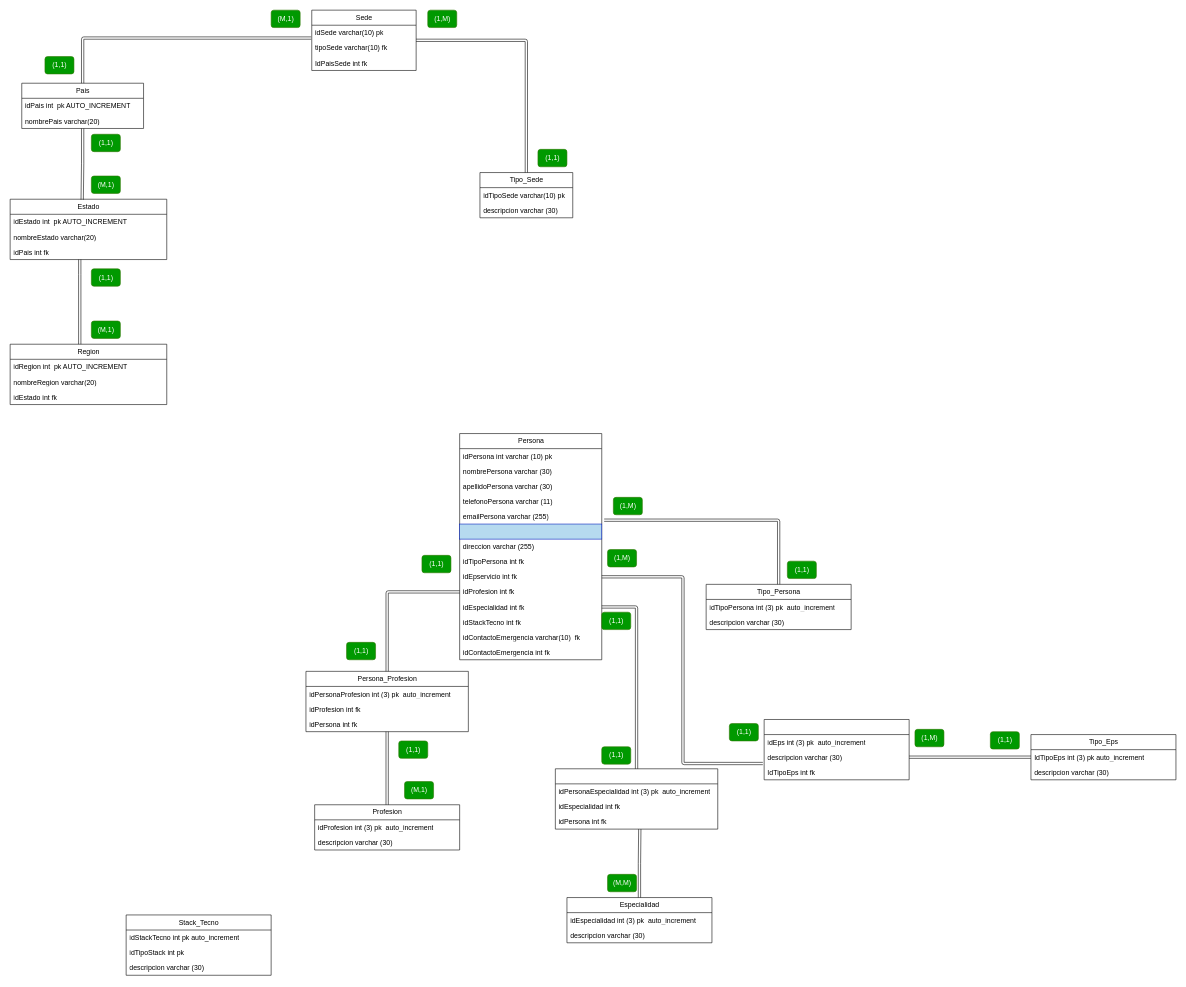
The diagram is 1186 pixels wide and 987 high, and some of its shapes have lost their labels. The box of each missing label's shape, as (x1, y1, x2, y2) in pixels:
Epservicio: (764, 719, 909, 780)
Especialidad_Persona: (555, 768, 718, 829)
fechaRegistro date (30): (459, 523, 602, 539)
